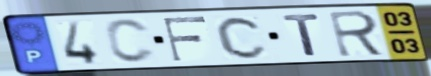4: (60, 19, 104, 66)
C: (103, 17, 159, 65), (214, 14, 271, 61)
F: (161, 15, 210, 63)
R: (326, 9, 389, 59)
T: (280, 12, 323, 57)
